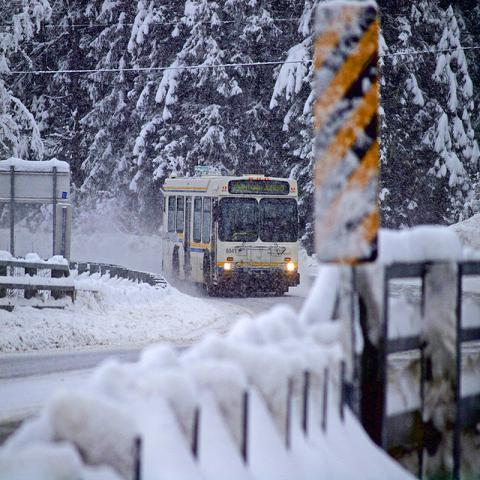bus: (162, 178, 299, 294)
